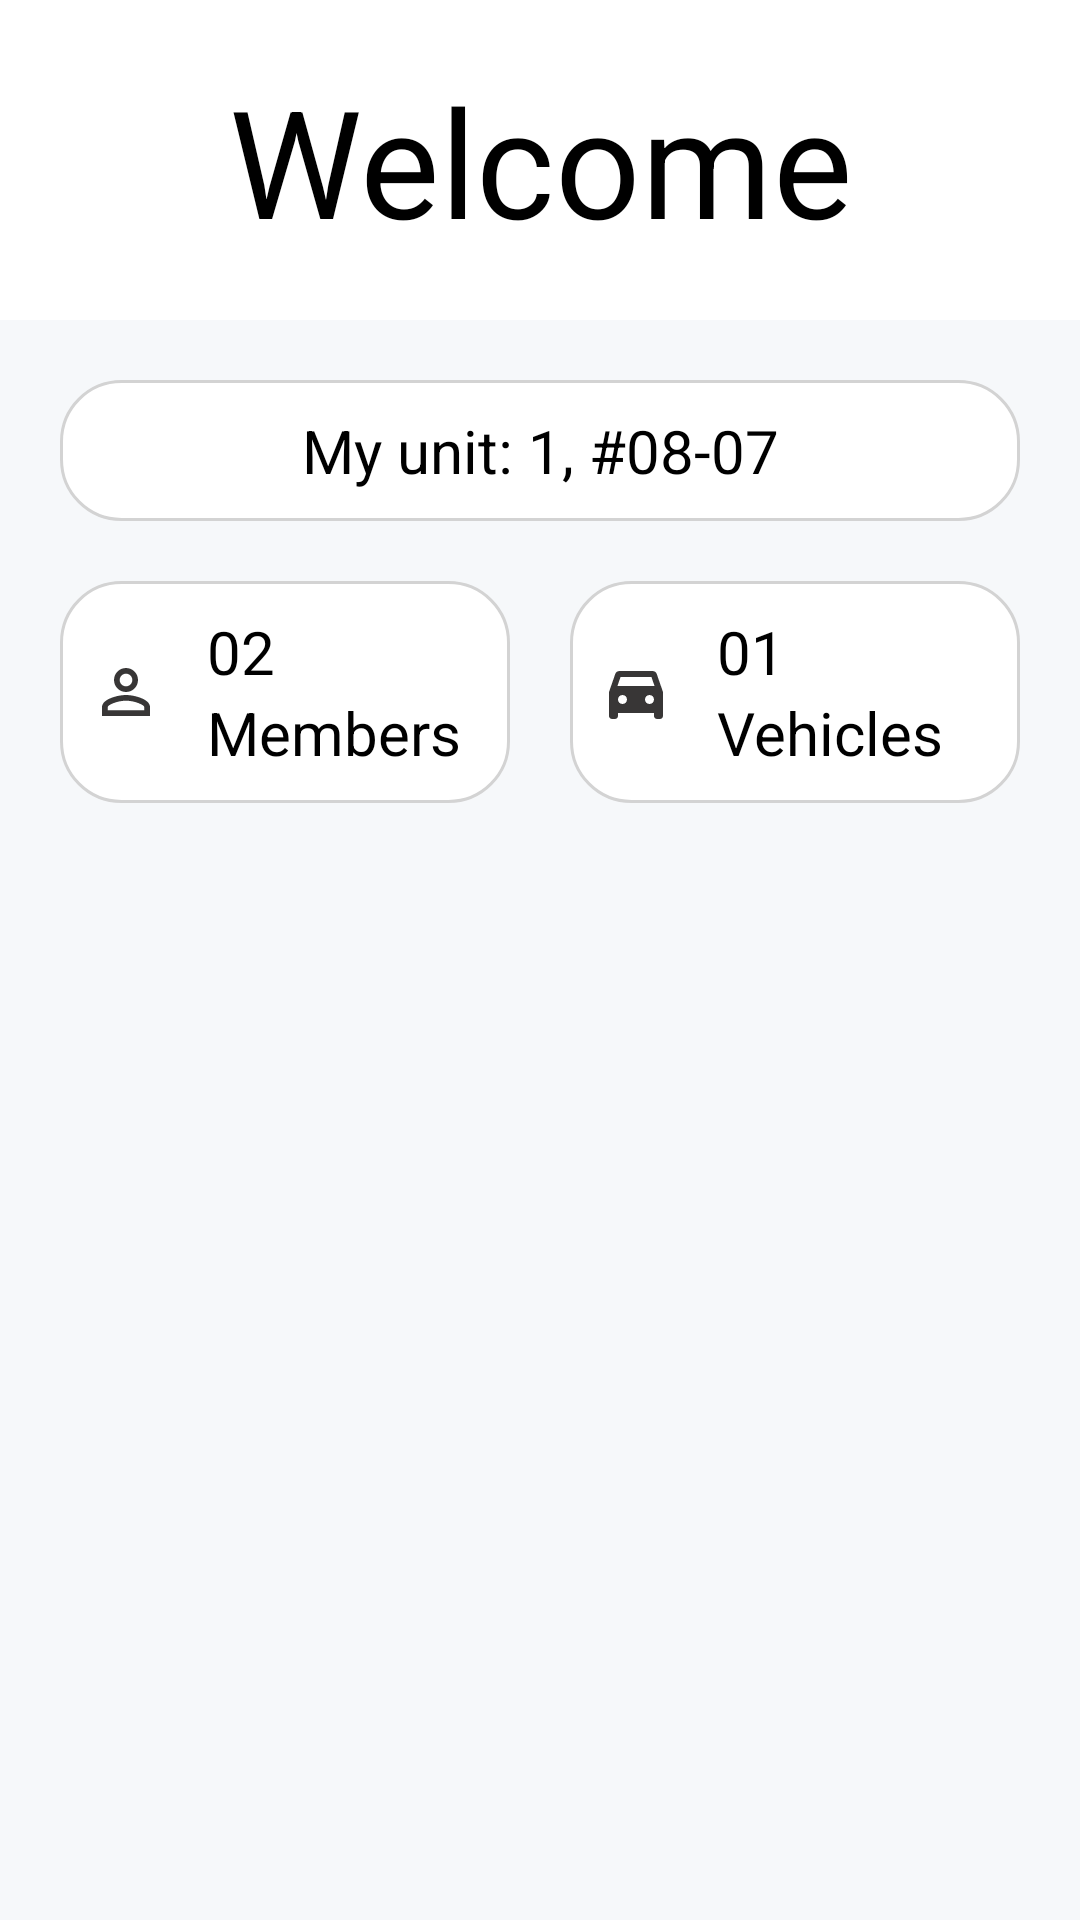

Point at icon controls on the screen. Image size 1080x1920, points as [x,y].
car: [636,695]
person: [126,692]
